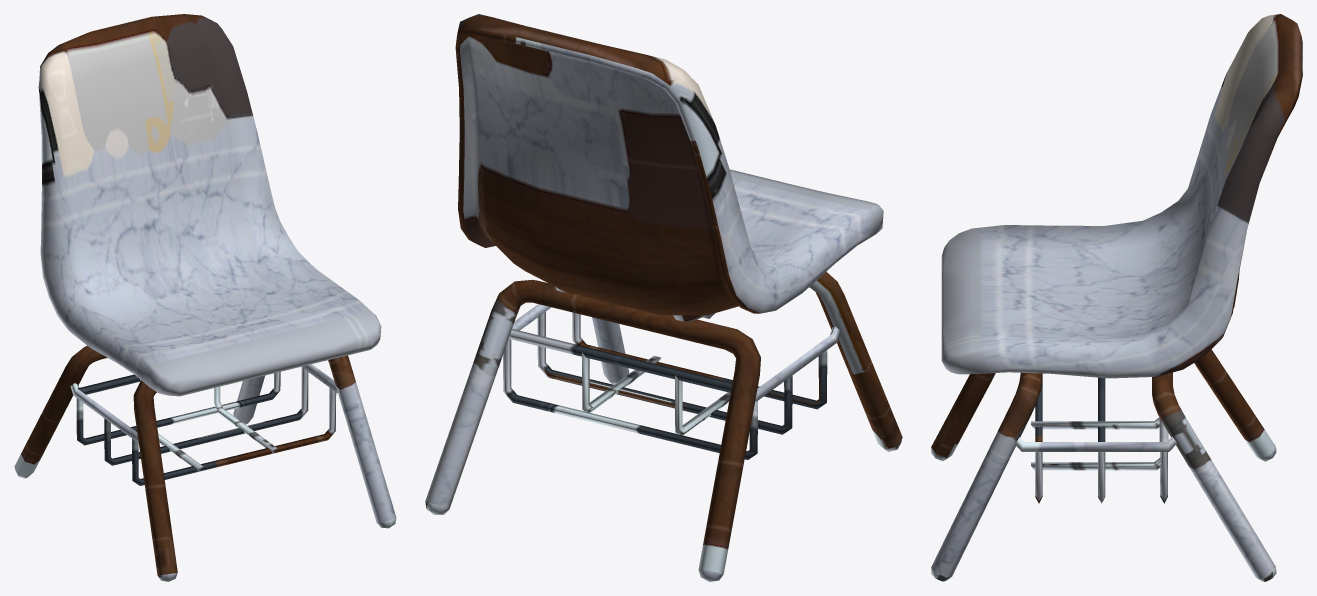
The model's file is sedia.fbx.
3 views of the same model, side by side, from view 1: azimuth 30°, elevation 25°; view 2: azimuth 150°, elevation 25°; view 3: azimuth 270°, elevation 25° (orthographic). The views are drawn at different scales.
Parts seen in each view (by area): view 1: Sedia; view 2: Sedia; view 3: Sedia.
Boxes of the visible parts, box(x1,y1,x2,y2) form: Sedia: box(14, 14, 396, 581); Sedia: box(425, 14, 902, 581); Sedia: box(931, 14, 1302, 581).
Bounding box in the file's own units: 184 × 312 × 223.
